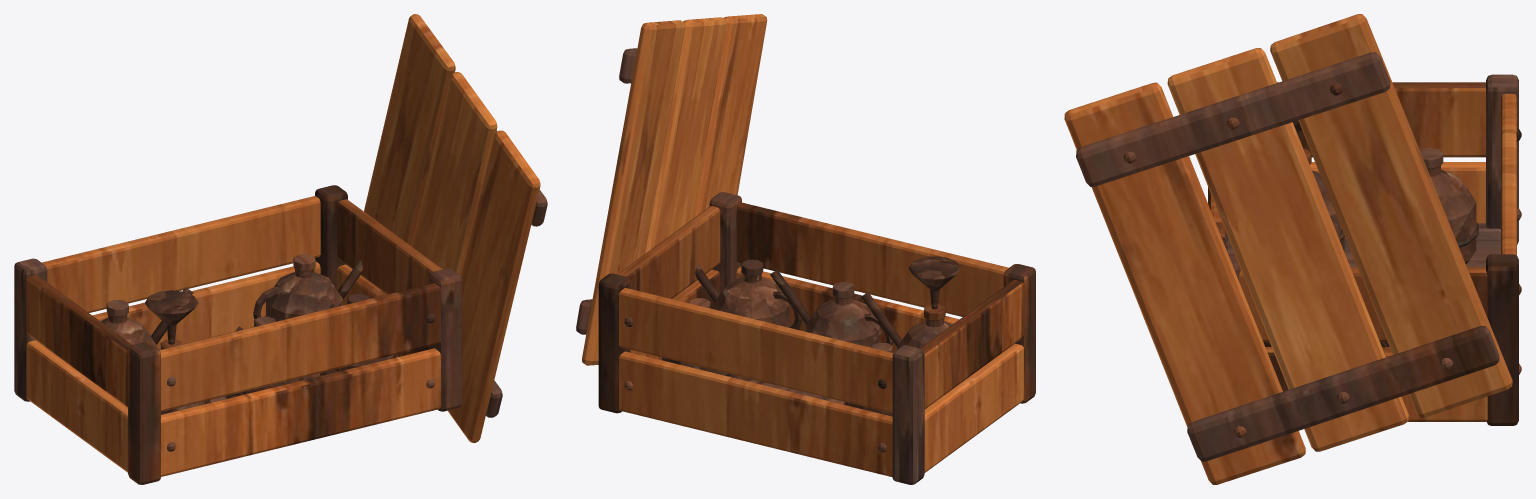
File: lw_oil_can_crate.glb
3 views of the same model, side by side, from view 1: azimuth 30°, elevation 25°; view 2: azimuth 150°, elevation 25°; view 3: azimuth 270°, elevation 25° (orthographic). The views are drawn at different scales.
Parts seen in each view (by area): view 1: model; view 2: model; view 3: model.
Part boxes in pixels (box(x1,y1,x2,y2)): model: box(14, 14, 547, 484); model: box(576, 14, 1035, 484); model: box(1064, 14, 1521, 484).
Bounding box in the file's own units: 0.6935 × 0.7077 × 0.6244.
Materials: 9 (8 with a texture image).
